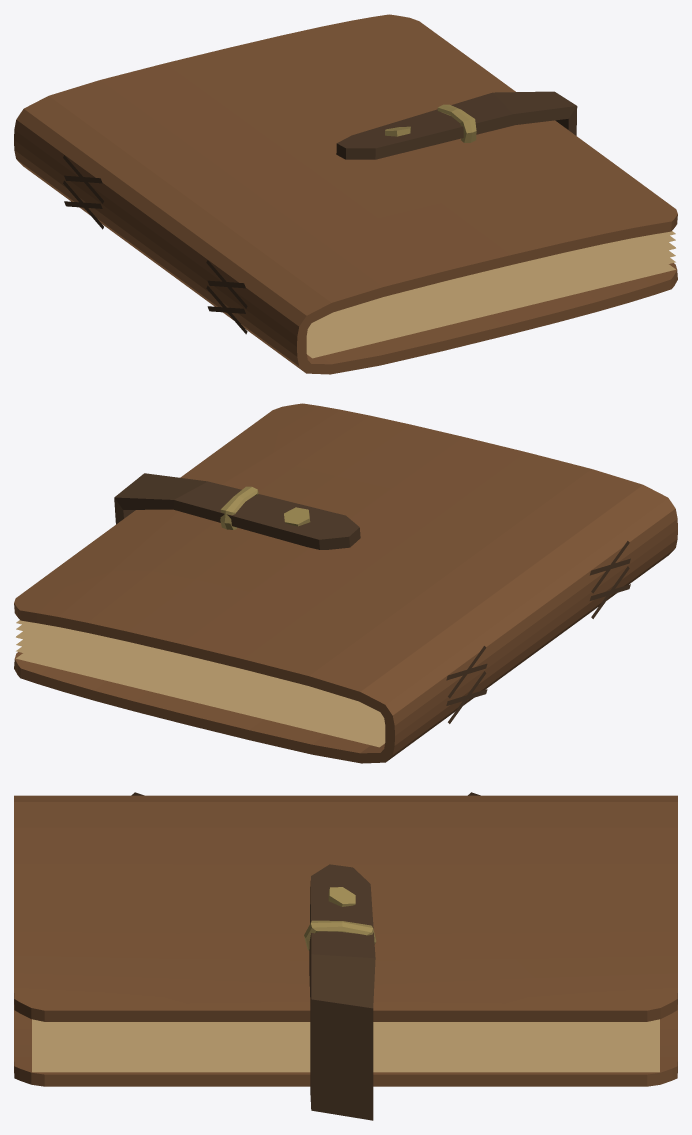
The model's file is notebook.glb.
3 views of the same model, one above another, from view 1: azimuth 30°, elevation 25°; view 2: azimuth 150°, elevation 25°; view 3: azimuth 270°, elevation 25° (orthographic). The views are drawn at different scales.
Parts seen in each view (by area): view 1: notebook, Plane.001, Cylinder.002, Plane; view 2: notebook, Plane.001, Cylinder.002, Plane; view 3: notebook, Plane.001, Cylinder.002.
Part boxes in pixels (x1=…): notebook: x1=14, y1=14, x2=677, y2=374; Plane.001: x1=306, y1=226, x2=675, y2=358; Cylinder.002: x1=336, y1=91, x2=577, y2=159; Plane: x1=63, y1=155, x2=247, y2=334; notebook: x1=14, y1=403, x2=677, y2=763; Plane.001: x1=16, y1=615, x2=385, y2=747; Cylinder.002: x1=114, y1=473, x2=360, y2=549; Plane: x1=446, y1=541, x2=630, y2=723; notebook: x1=14, y1=795, x2=677, y2=1086; Plane.001: x1=32, y1=1019, x2=659, y2=1072; Cylinder.002: x1=304, y1=864, x2=376, y2=1120.
Size of the model in its own units: 0.3157 by 0.0864 by 0.3755.
